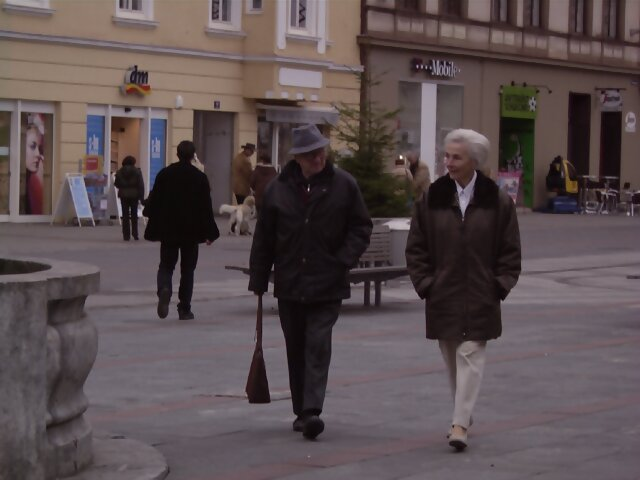person: (248, 120, 377, 441), (406, 126, 523, 453)
